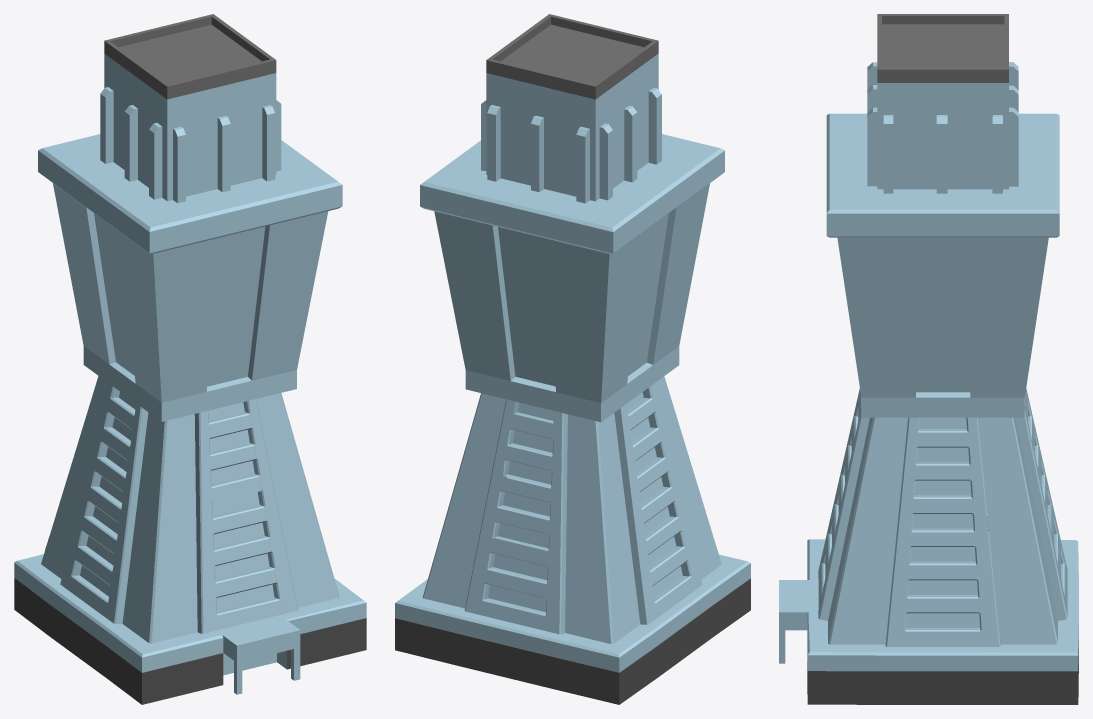
Rendered from Building_015.fbx.
3 renders of one model, left to right at view 1: azimuth 30°, elevation 25°; view 2: azimuth 150°, elevation 25°; view 3: azimuth 270°, elevation 25°, orthographic. The views are drawn at different scales.
Visible parts, largest first — view 1: Building_015; view 2: Building_015; view 3: Building_015.
Part boxes in pixels (x1,y1,x2,y2): Building_015: (14,14,366,704); Building_015: (395,14,750,704); Building_015: (779,14,1078,704).
Size of the model in its own units: 2785 by 6831 by 3063.
